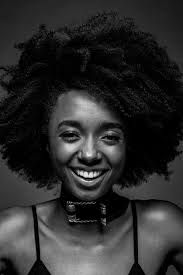no-mask: (33, 75, 141, 199)
